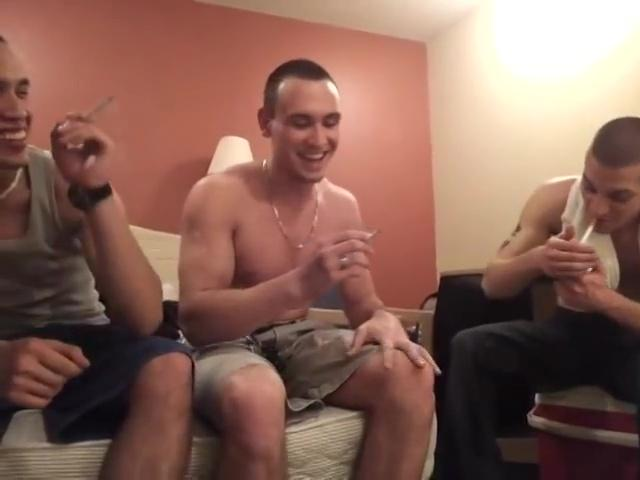cigarette: (80, 90, 122, 126), (577, 214, 602, 251), (359, 224, 383, 243)
